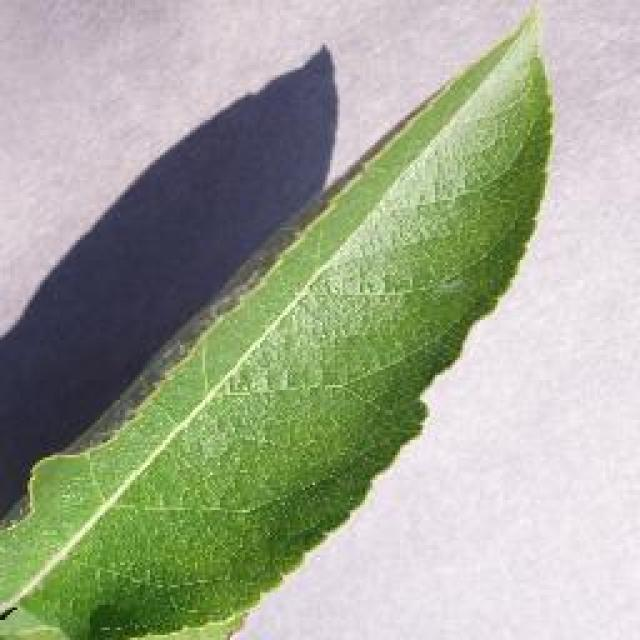apple healthy: (0, 0, 555, 638)
